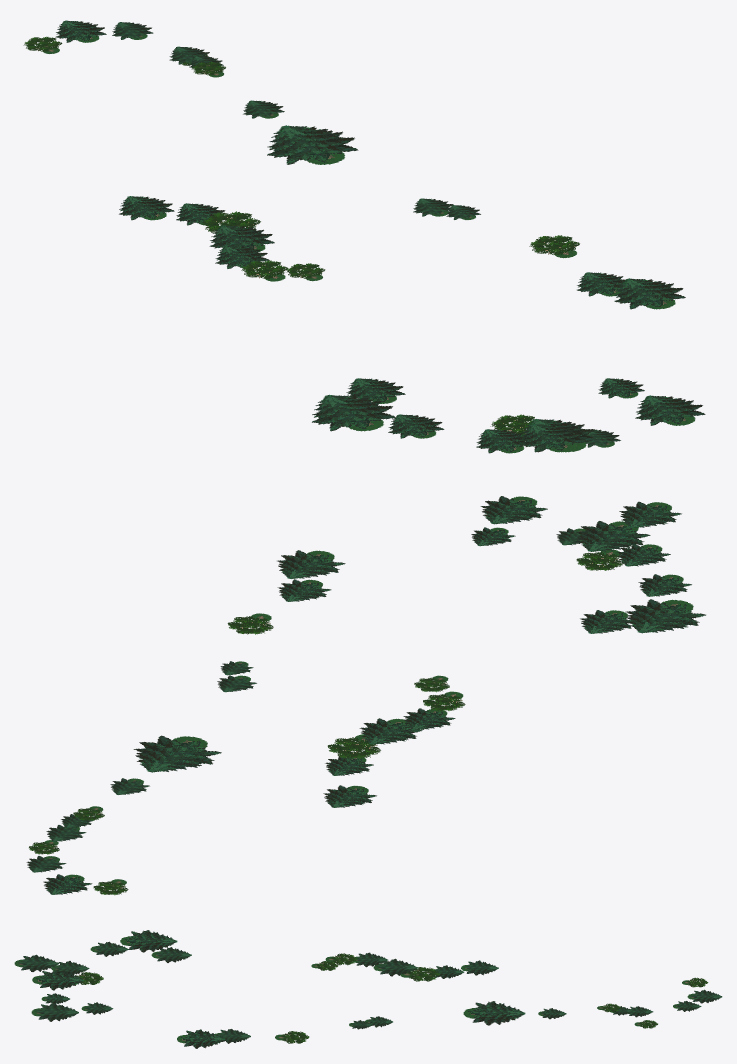
Rendered from glf_map_fc1__glf_tree_fc1.glb.
The picture shows the model from 3 angles, top to bottom: view 1: azimuth 30°, elevation 25°; view 2: azimuth 150°, elevation 25°; view 3: azimuth 270°, elevation 25°; orthographic projection. The views are drawn at different scales.
Parts seen in each view (by area): view 1: polygon8, polygon0; view 2: polygon8, polygon0; view 3: polygon8, polygon0.
Part boxes in pixels (x1,y1,x2,y2): polygon8: (55,20,705,453); polygon0: (23,36,579,436); polygon8: (26,496,705,894); polygon0: (29,549,623,895); polygon8: (14,930,722,1048); polygon0: (76,953,708,1043).
Size of the model in its own units: 1911 by 120 by 4633.
2 materials, 2 textured.
